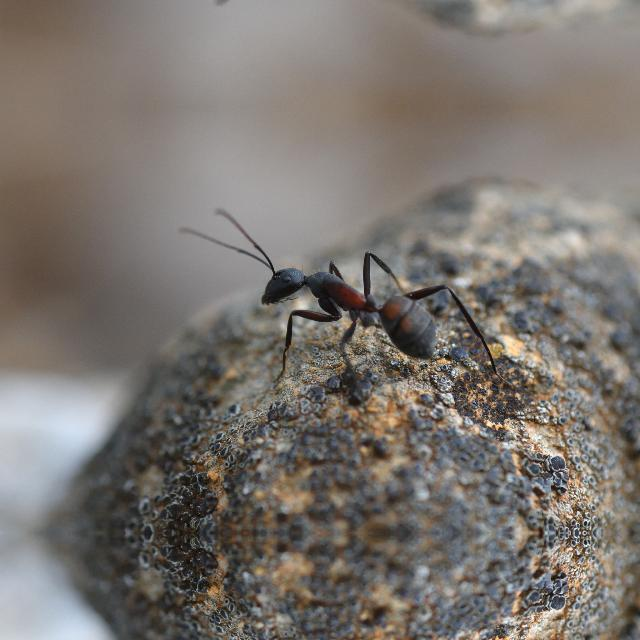Camponotus: (220, 228, 490, 364)
